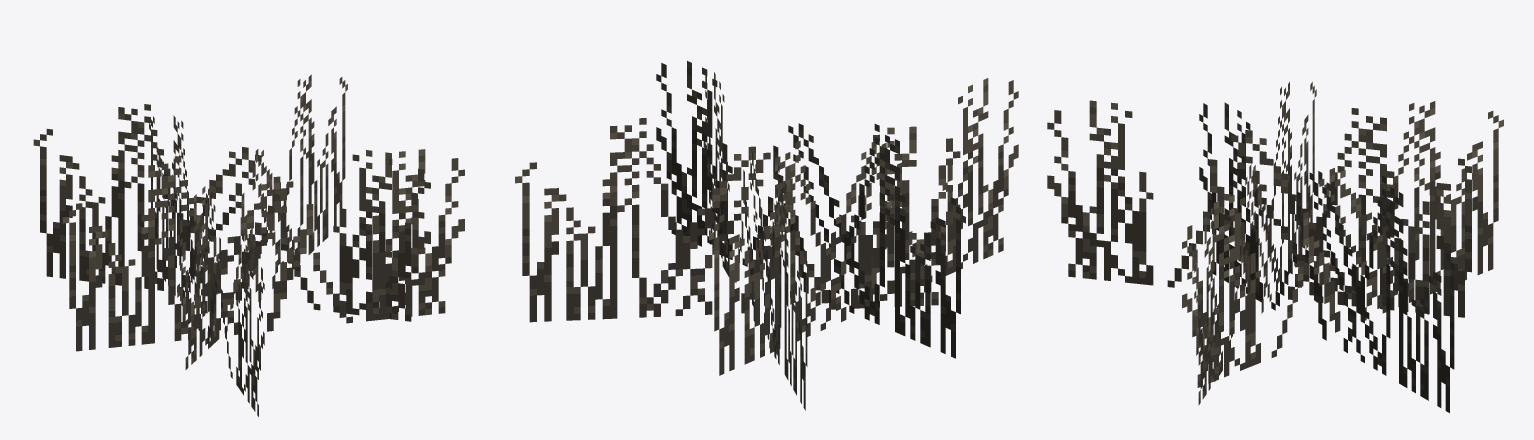
Rendered from CORR_Withered_Grass.glb.
3 renders of one model, left to right at view 1: azimuth 30°, elevation 25°; view 2: azimuth 150°, elevation 25°; view 3: azimuth 270°, elevation 25°, orthographic. The views are drawn at different scales.
Parts seen in each view (by area): view 1: CORR_Withered_Grass_Mesh; view 2: CORR_Withered_Grass_Mesh; view 3: CORR_Withered_Grass_Mesh.
Boxes of the visible parts, left/top/right/bottom form: CORR_Withered_Grass_Mesh: left=33, top=74, right=464, bottom=416; CORR_Withered_Grass_Mesh: left=515, top=61, right=1018, bottom=410; CORR_Withered_Grass_Mesh: left=1047, top=82, right=1503, bottom=413.
Size of the model in its own units: 0.915 by 0.45 by 0.9114.
Materials: 1 (1 with a texture image).
